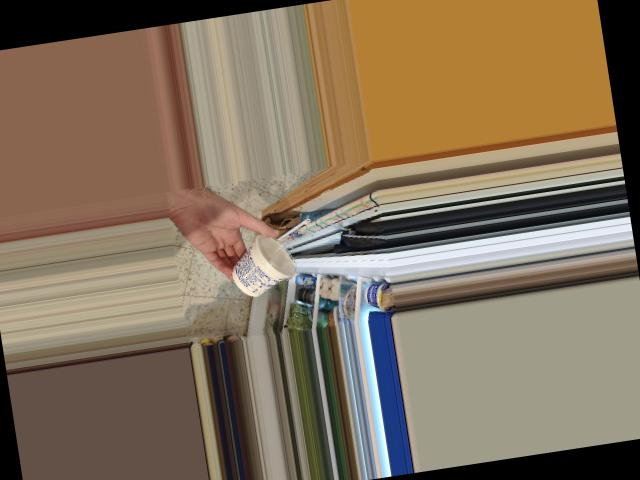cotage: (234, 234, 299, 296)
